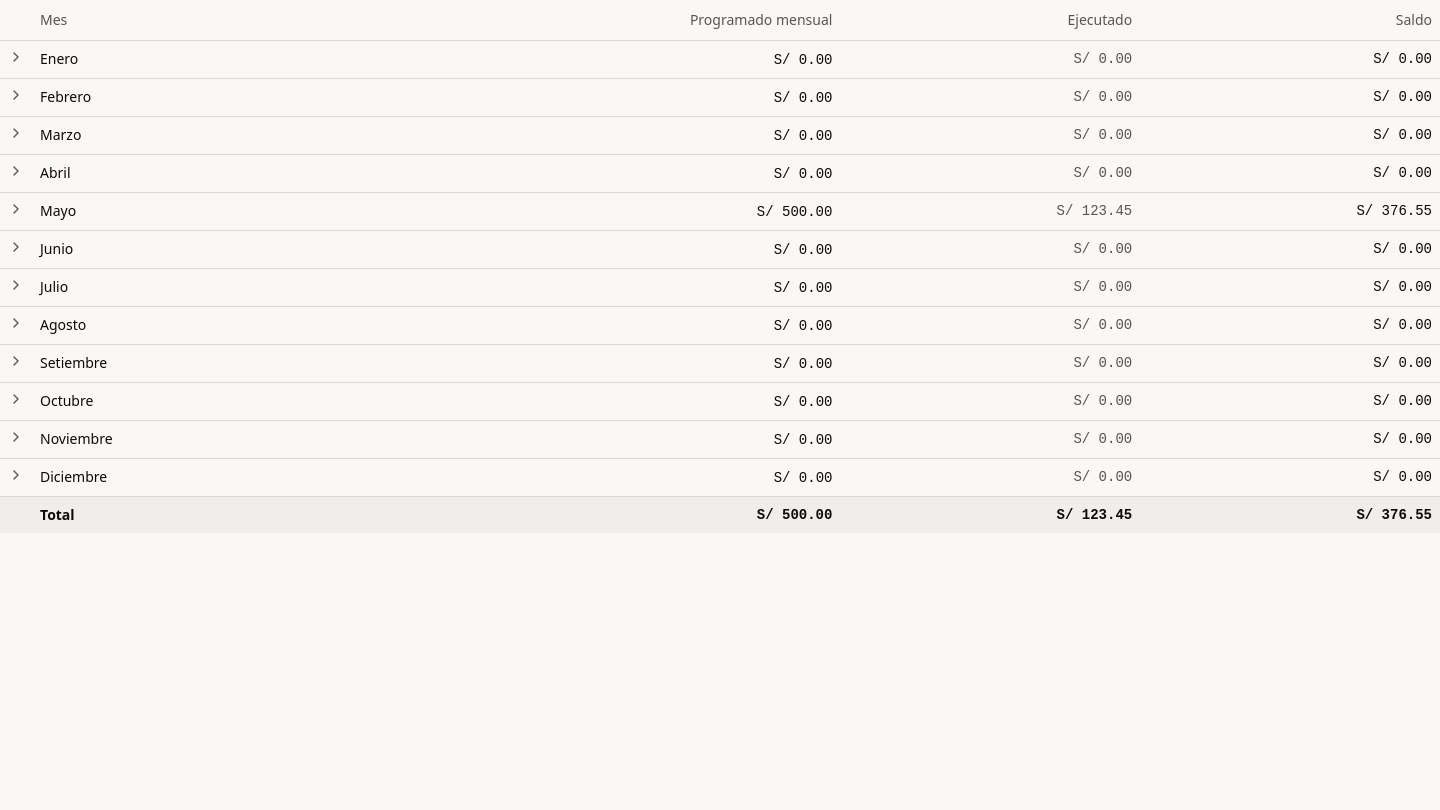
MonthlyTable › renders paid request execution details as a request link when requestId exists
Click the text "Mayo": (58,210) [32,192,322,230]
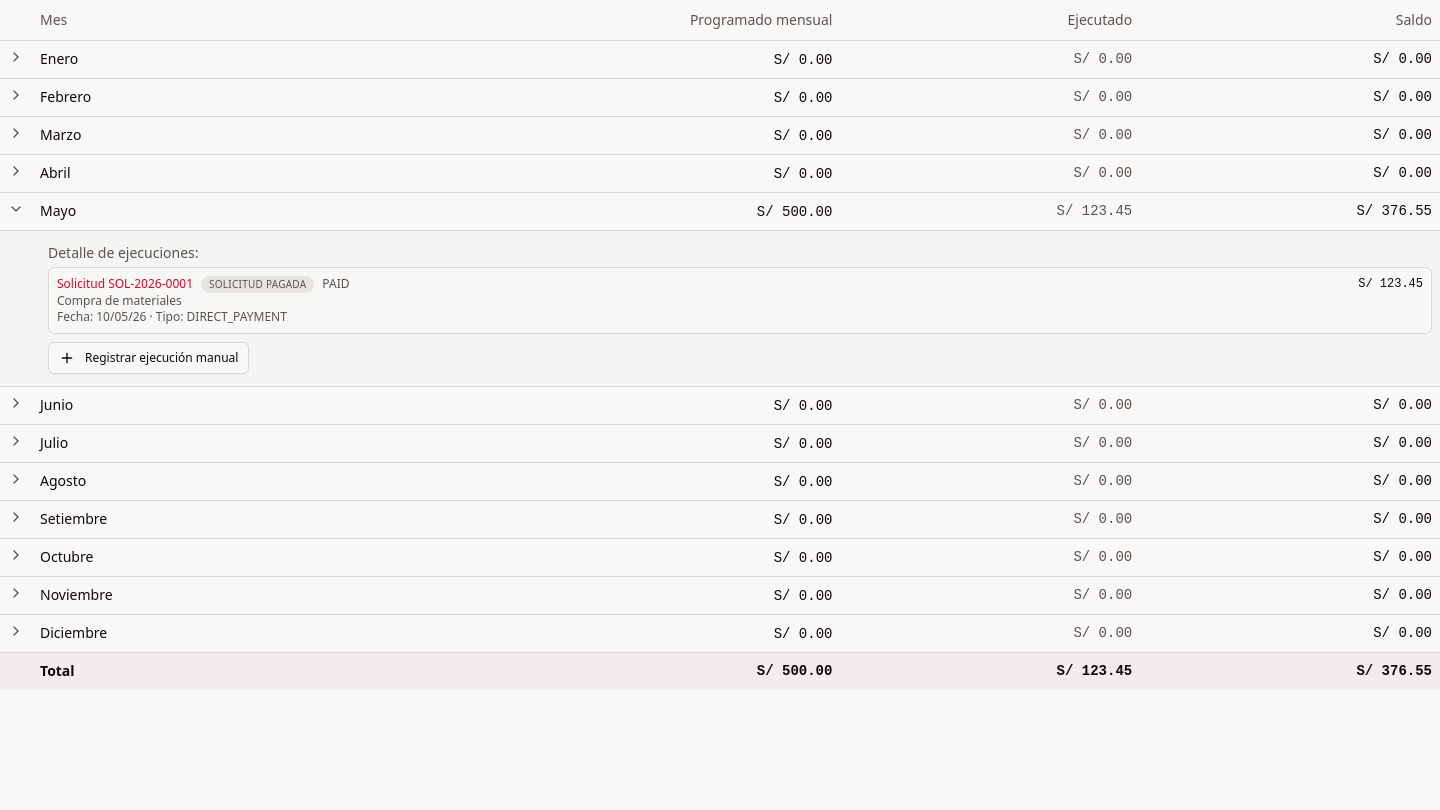
Expected: the text "Compra de materiales" is shown, [57,292,182,309]
Expected: the text "Solicitud pagada" is shown, [201,276,314,293]
Expected: the text "PAID" is shown, [322,276,350,292]
